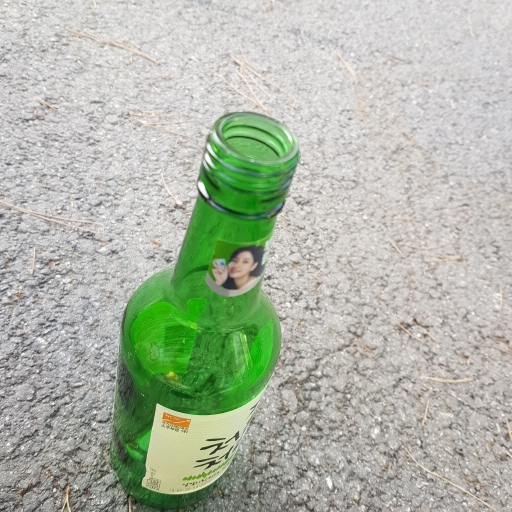Glass_0: (110, 108, 299, 509)
